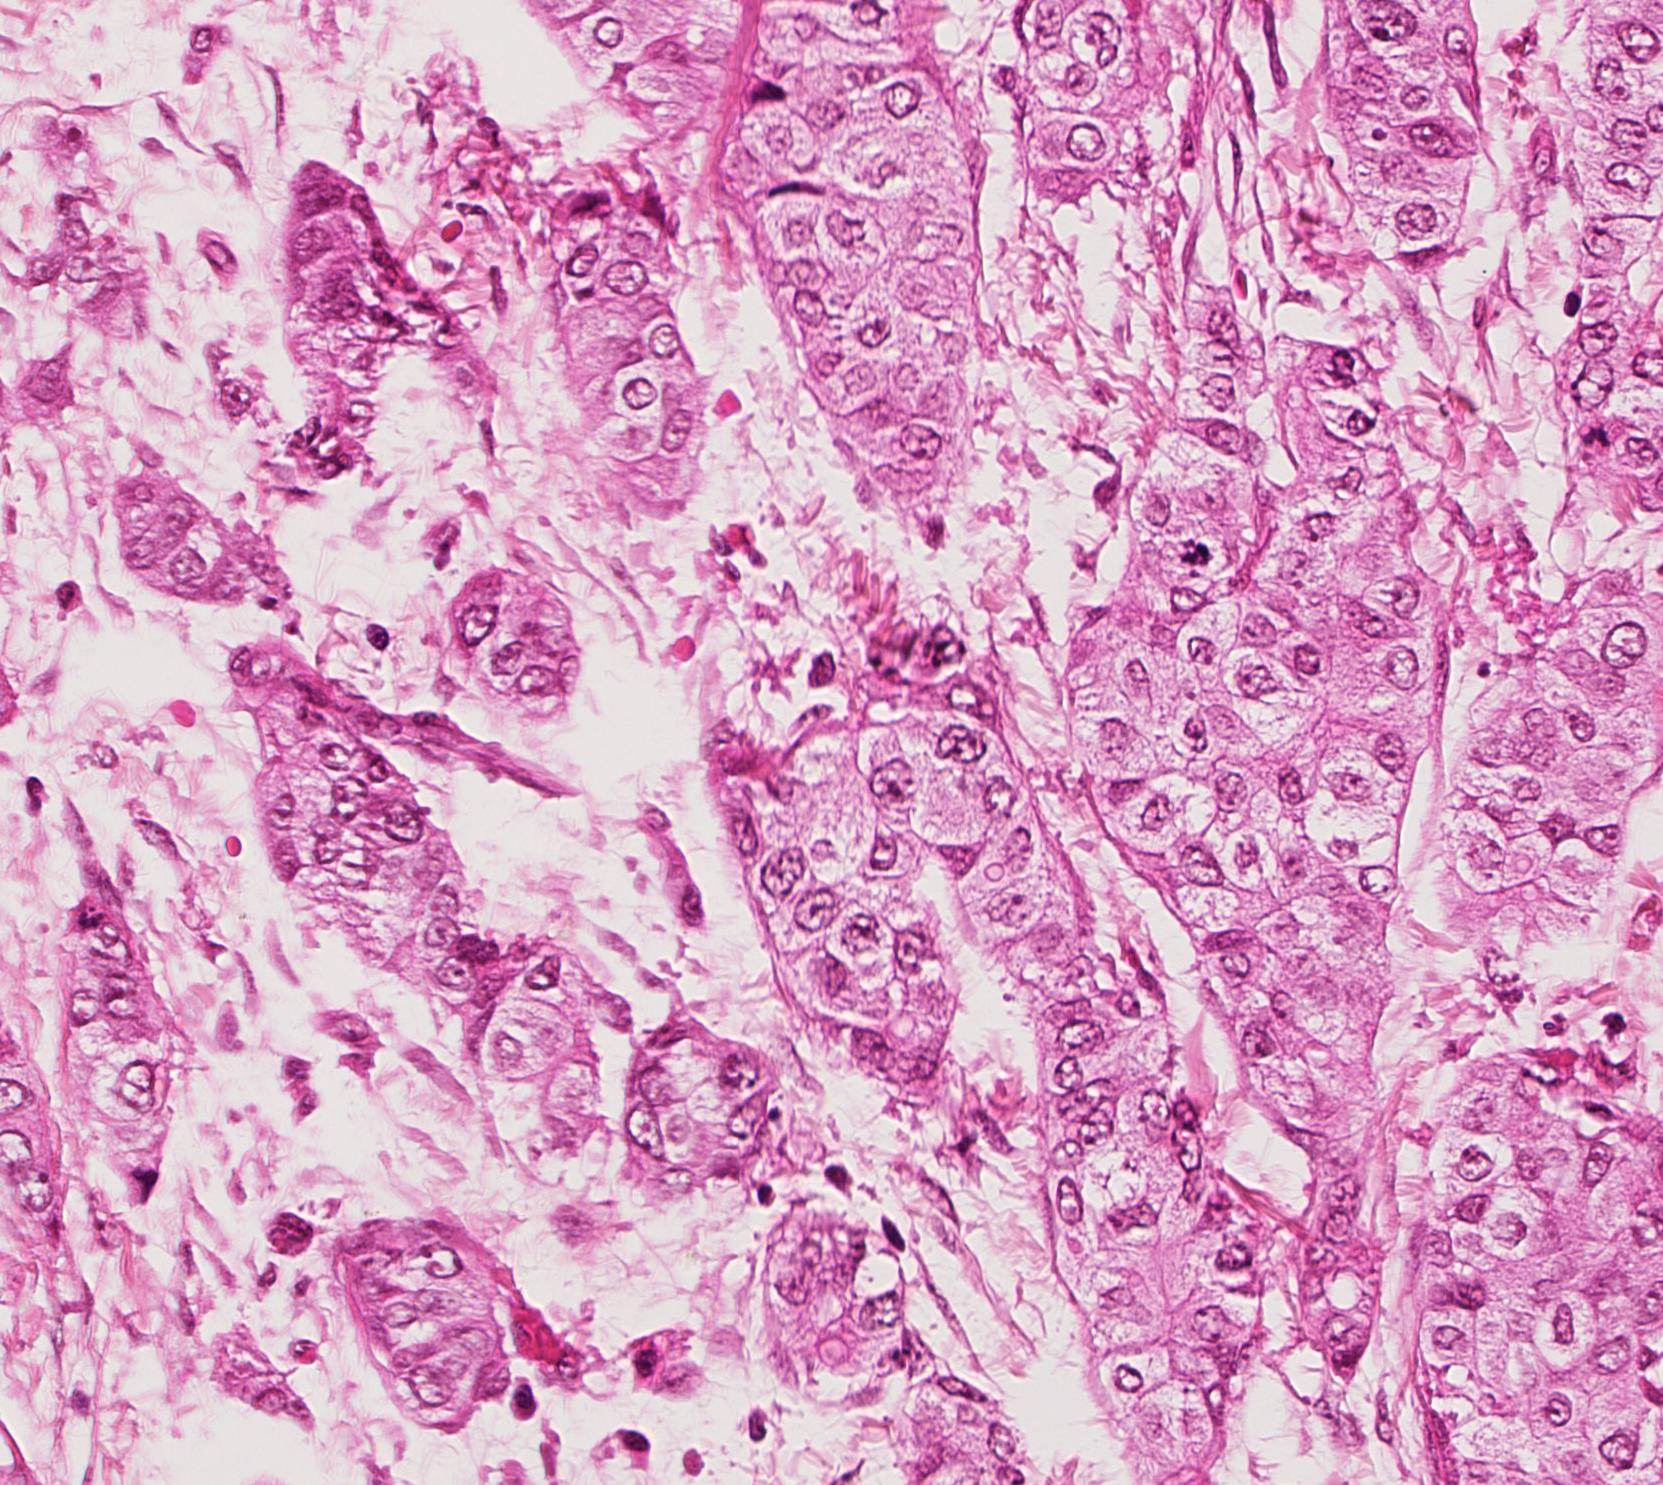mitosis: (1170, 525, 1230, 585), (1563, 411, 1621, 472)
